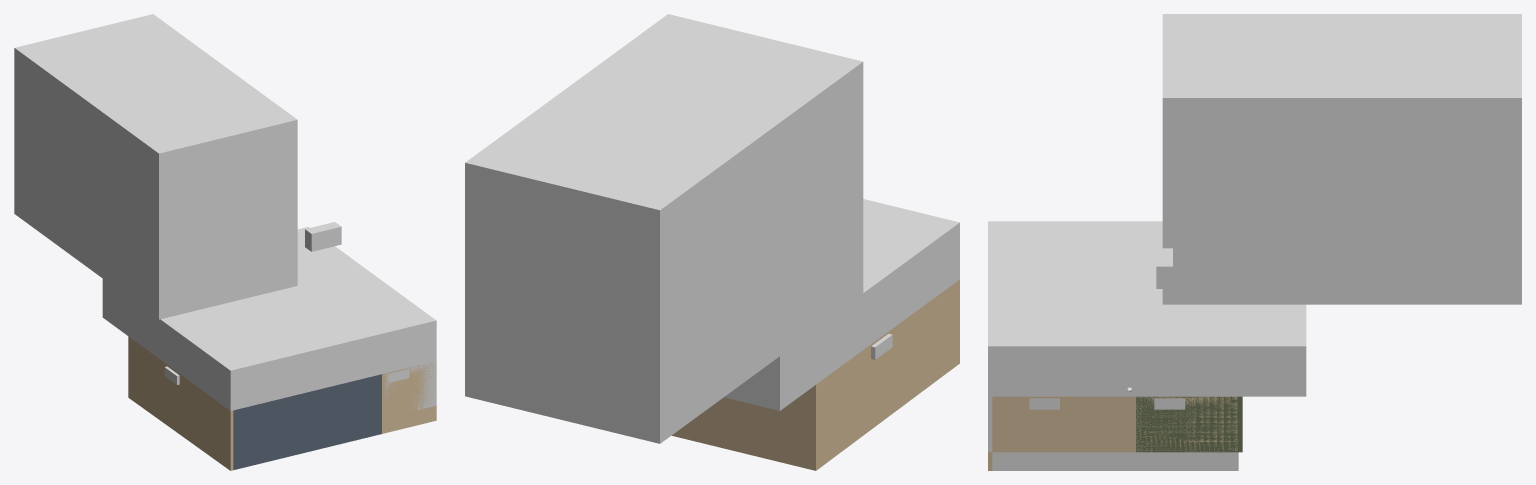
Rendered from apartment.glb.
3 views of the same model, side by side, from view 1: azimuth 30°, elevation 25°; view 2: azimuth 150°, elevation 25°; view 3: azimuth 270°, elevation 25° (orthographic). The views are drawn at different scales.
Visible parts, largest first — view 1: Cube.035, Cube.402, Cube.306, Cube.392, Cube.389, Cube.003, Cube.287, Cube.004, Cube.163, Cube.036, Cube.037, Cube.378 (+6 smaller); view 2: Cube.402, Cube.306, Cube.392, Cube.391, Cube.335, Cube.004, Cube.035, Cube.034, Cube.036, Cube.579, Cube.578, Cube.344 (+3 smaller); view 3: Cube.286, Cube.390, Cube.035, Cube.402, Cube.037, Cube.031, Cube.592, Cube.260, Cube.029, Cube.030, Cube.391, Cube.389 (+4 smaller).
Boxes of the visible parts, x1,y1,x2,y2 form: Cube.035: (158, 268, 436, 410); Cube.402: (20, 16, 292, 151); Cube.306: (17, 131, 161, 319); Cube.392: (17, 49, 161, 234); Cube.389: (160, 118, 297, 233); Cube.003: (233, 374, 381, 470); Cube.287: (194, 200, 297, 310); Cube.004: (130, 338, 233, 470); Cube.163: (382, 362, 436, 433); Cube.036: (102, 279, 158, 357); Cube.037: (297, 227, 364, 283); Cube.378: (166, 225, 194, 274); Cube.402: (473, 16, 856, 206); Cube.306: (663, 177, 860, 440); Cube.392: (660, 60, 863, 320); Cube.391: (465, 160, 663, 323); Cube.335: (509, 287, 659, 443); Cube.004: (818, 279, 959, 468); Cube.035: (859, 199, 959, 352); Cube.034: (672, 383, 818, 470); Cube.036: (724, 298, 858, 410); Cube.579: (466, 164, 663, 323); Cube.578: (476, 284, 663, 443); Cube.344: (465, 276, 482, 400); Cube.286: (1166, 198, 1515, 304); Cube.390: (1166, 96, 1515, 198); Cube.035: (988, 221, 1166, 396); Cube.402: (1166, 15, 1515, 96); Cube.037: (1166, 304, 1306, 396); Cube.031: (992, 396, 1135, 452); Cube.592: (992, 396, 1238, 452); Cube.260: (1136, 396, 1238, 452); Cube.029: (992, 452, 1135, 470); Cube.030: (1136, 452, 1238, 470); Cube.391: (1515, 14, 1521, 198); Cube.389: (1162, 15, 1166, 198).
Size of the model in its own units: 14.72 by 19.8 by 26.
